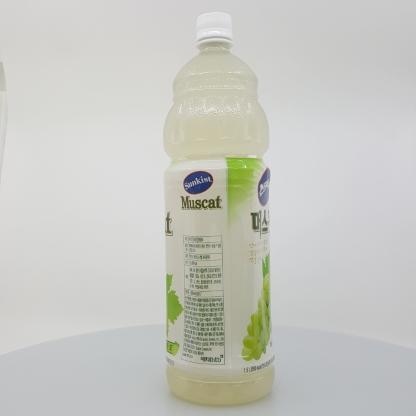-------1-5L: (163, 12, 276, 405)
